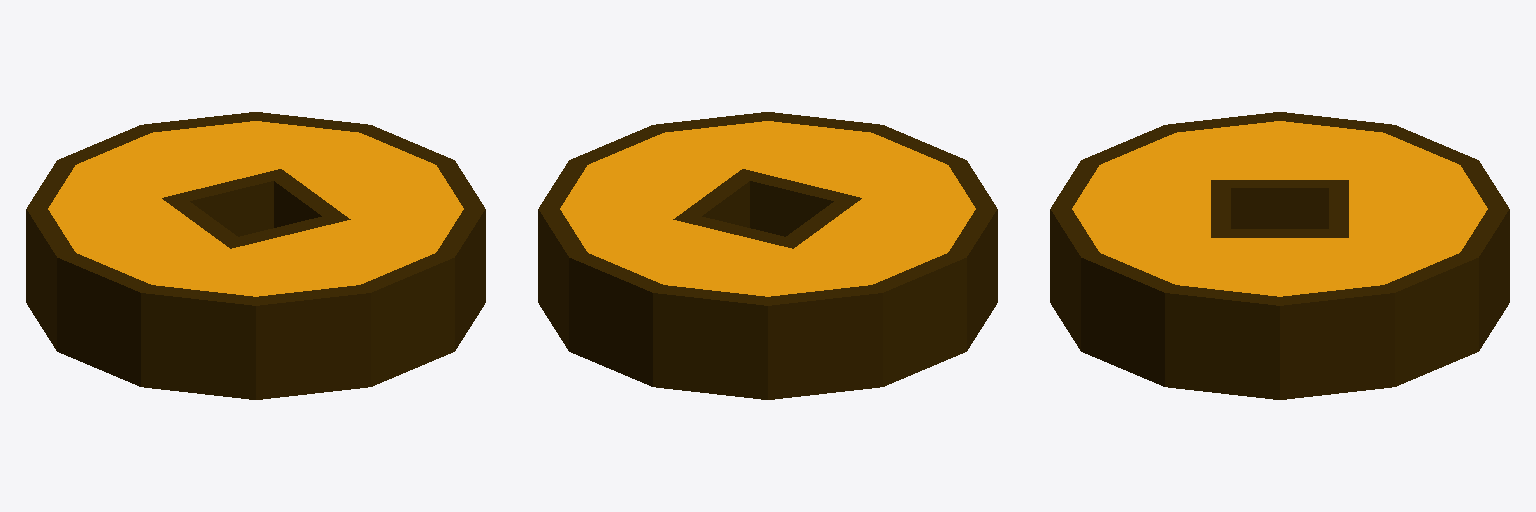
Rendered from item.gold_coin.obj.
3 renders of one model, left to right at view 1: azimuth 30°, elevation 25°; view 2: azimuth 150°, elevation 25°; view 3: azimuth 270°, elevation 25°, orthographic.
Parts seen in each view (by area): view 1: gold_coin_Circle; view 2: gold_coin_Circle; view 3: gold_coin_Circle.
Part boxes in pixels (x1,y1,x2,y2): gold_coin_Circle: (26, 112, 485, 399); gold_coin_Circle: (538, 112, 997, 399); gold_coin_Circle: (1050, 112, 1509, 399).
Size of the model in its own units: 0.3311 by 0.075 by 0.3311.